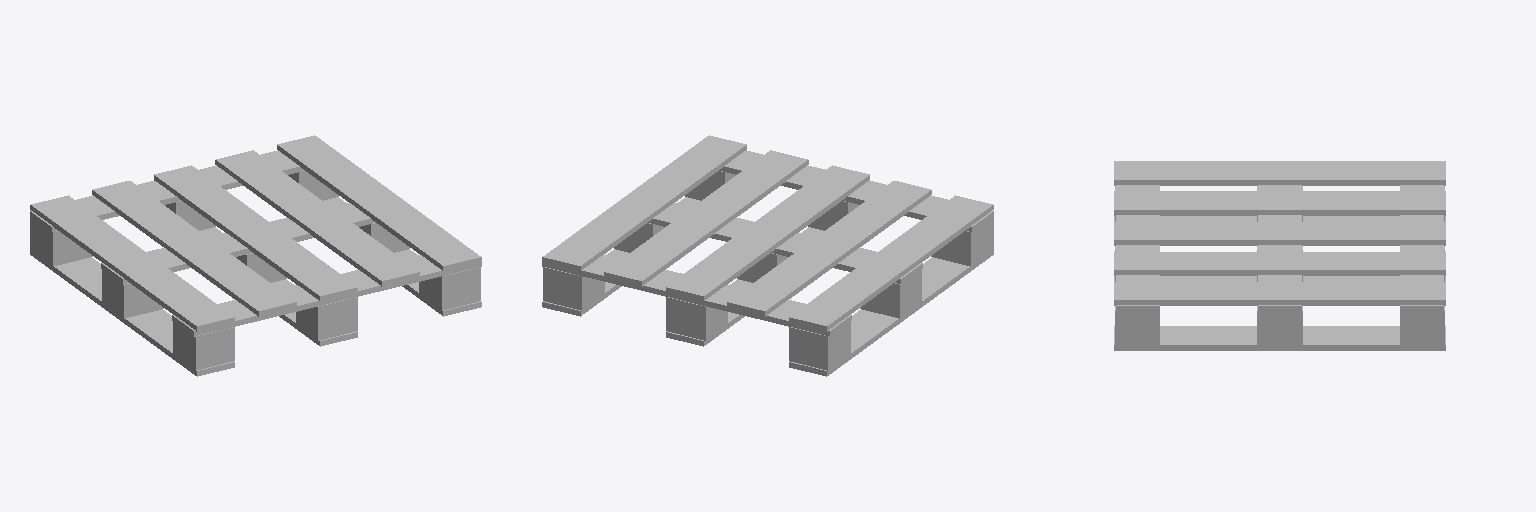
The model's file is obj_parts_pallet.obj.
The picture shows the model from 3 angles: view 1: azimuth 30°, elevation 25°; view 2: azimuth 150°, elevation 25°; view 3: azimuth 270°, elevation 25°; orthographic projection.
Visible parts, largest first — view 1: Куб.014; view 2: Куб.014; view 3: Куб.014.
Part boxes in pixels (bbox=[...]): Куб.014: bbox=[30, 135, 481, 376]; Куб.014: bbox=[542, 135, 993, 376]; Куб.014: bbox=[1114, 161, 1445, 350].
Size of the model in its own units: 6 by 1 by 6.